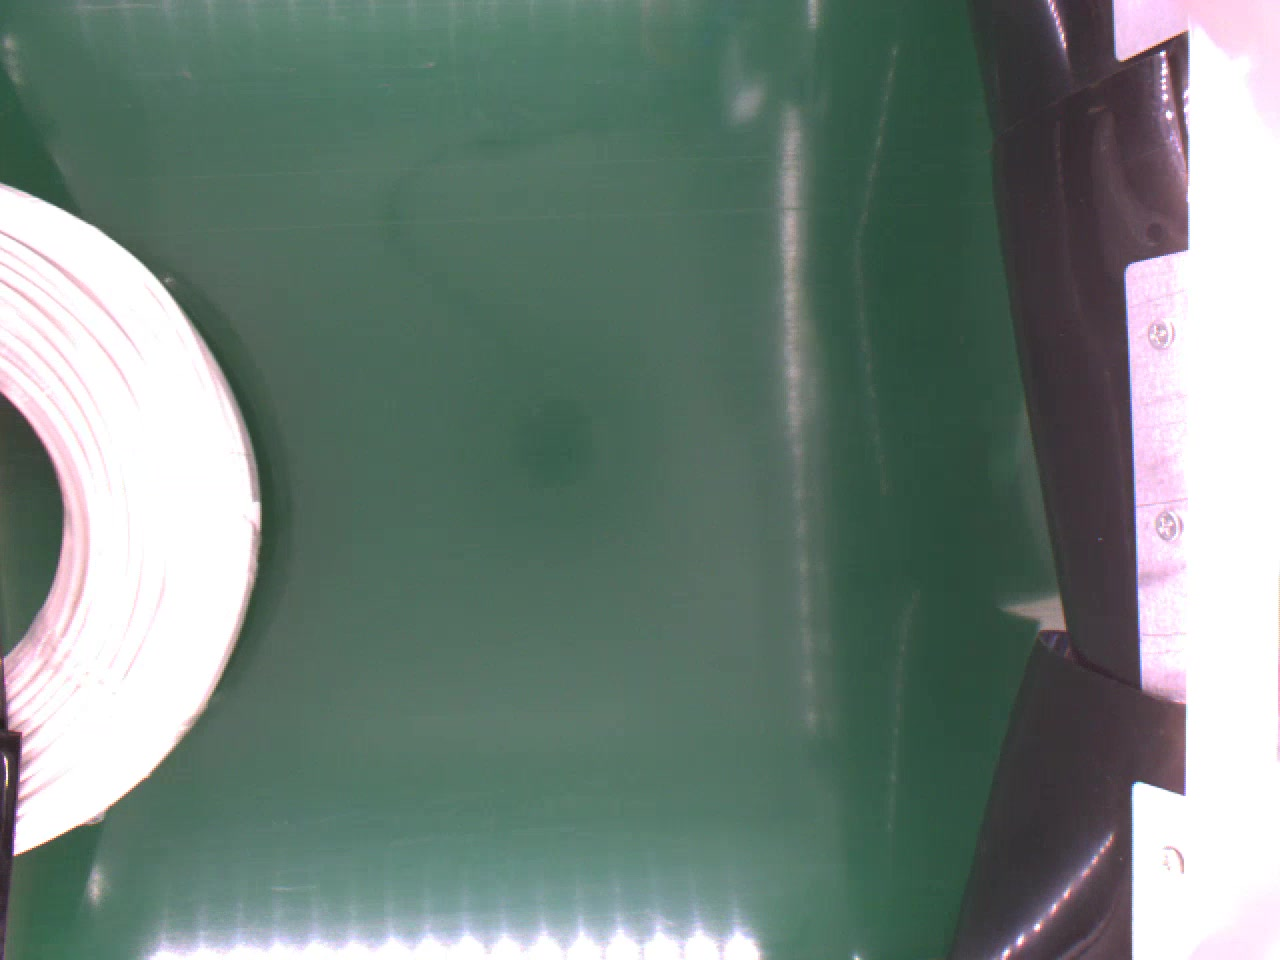white: (0, 183, 265, 860)
